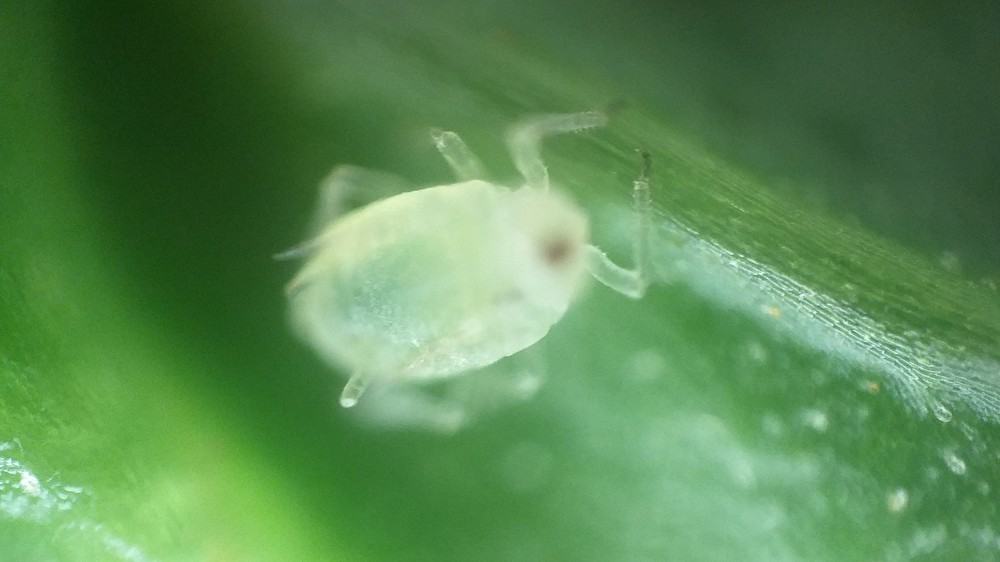Pulgon: (258, 95, 707, 445)
